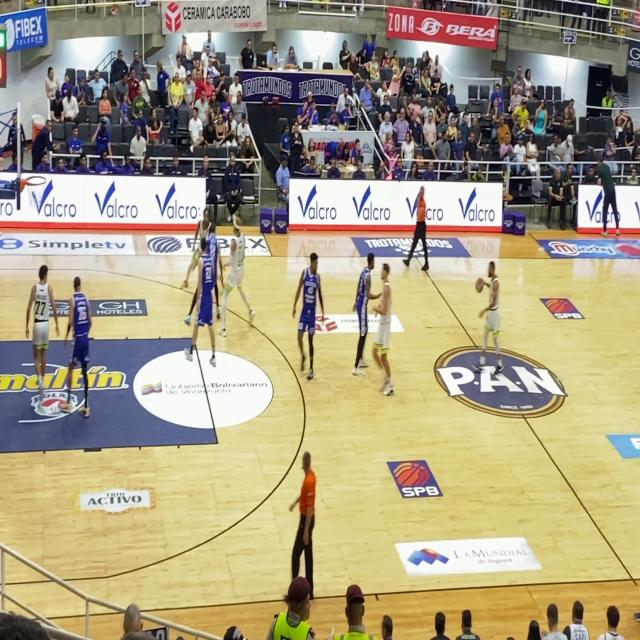Ball: (473, 274, 486, 294)
referee: (285, 446, 320, 590), (401, 178, 435, 276)
team1: (22, 259, 57, 410), (220, 205, 256, 342), (369, 259, 398, 404), (476, 249, 504, 388), (192, 198, 213, 248)
team2: (64, 262, 102, 428)
ubasket: (24, 174, 47, 209)
